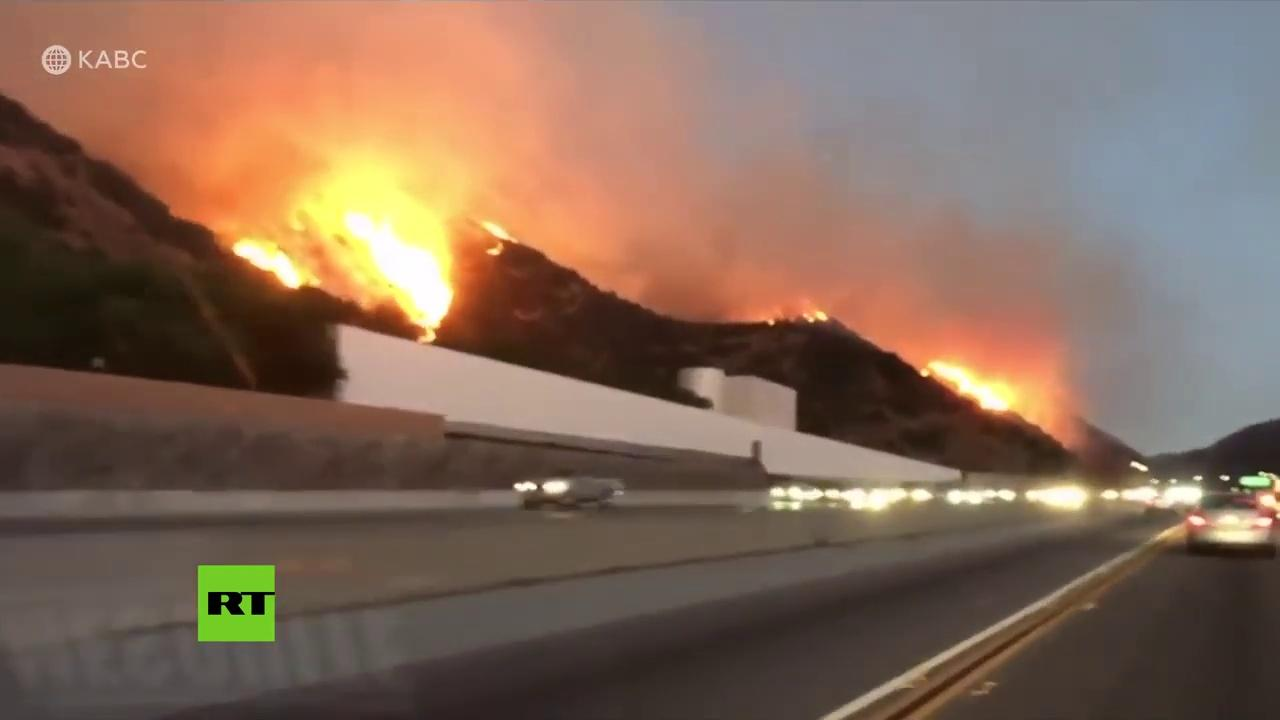fire: (339, 203, 457, 321), (234, 231, 319, 311), (924, 359, 1024, 404)
